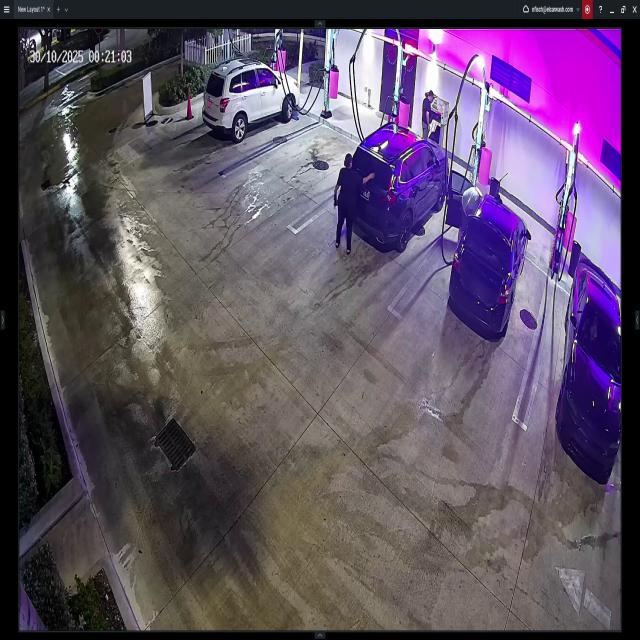Car: (558, 252, 621, 480), (346, 122, 448, 247), (449, 190, 527, 334), (204, 55, 300, 142)
